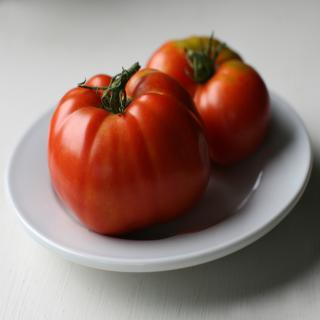tomato: (47, 61, 210, 230), (146, 30, 274, 166)
